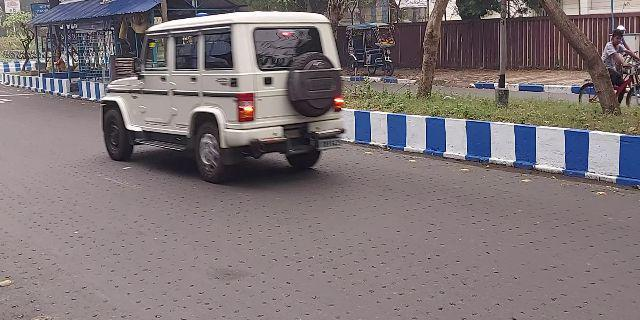Car: (100, 15, 354, 177)
